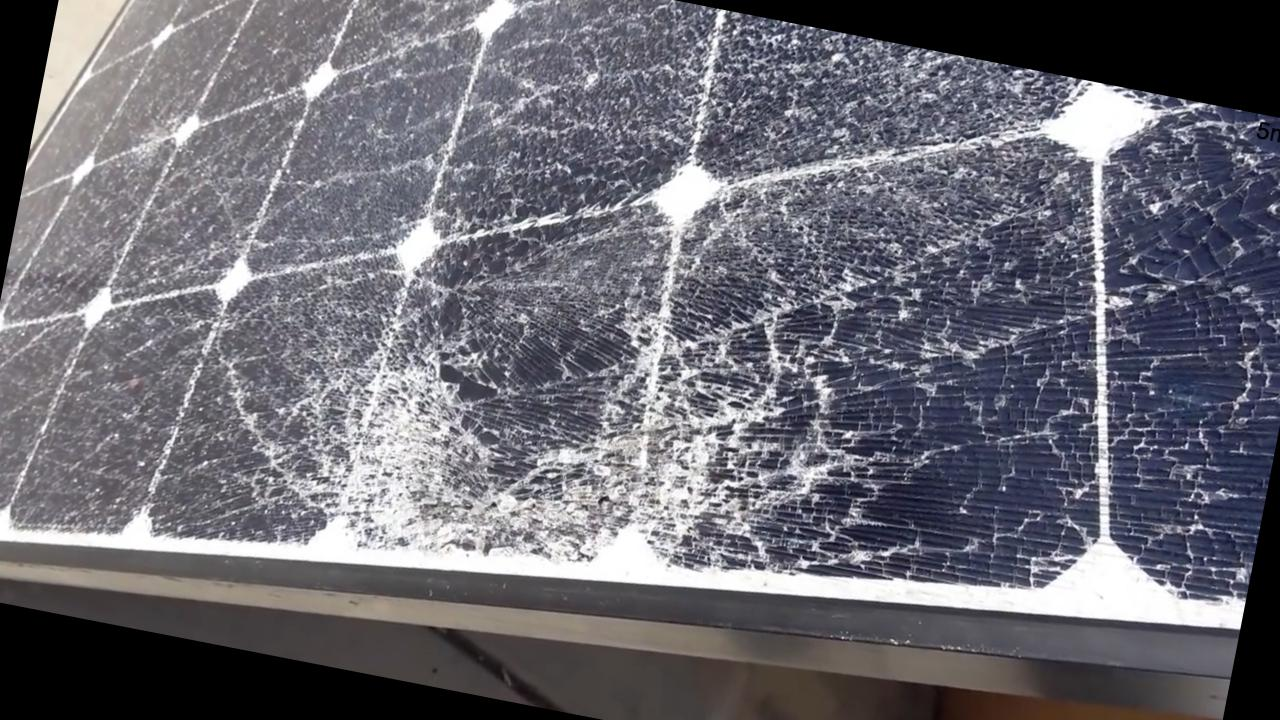Crack: (379, 302, 864, 649), (236, 205, 622, 598)
